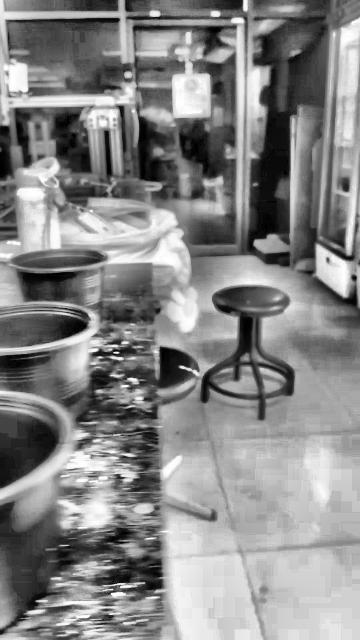pot: (0, 391, 75, 630), (0, 301, 97, 419), (9, 249, 107, 320)
